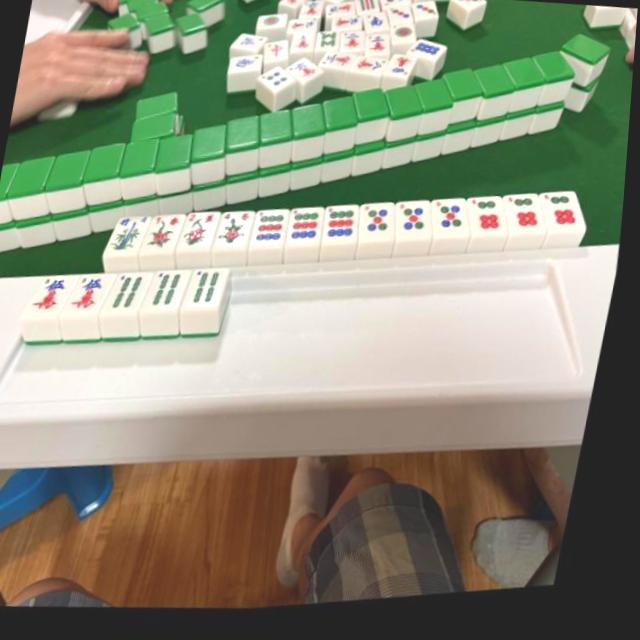bf4: (108, 213, 155, 261)
bs1: (146, 212, 188, 255)
bs2: (184, 212, 223, 255)
bs4: (218, 210, 259, 256)
sb4: (113, 271, 150, 316), (192, 268, 228, 312), (154, 270, 190, 314)
sc5: (32, 272, 76, 322), (72, 274, 113, 319)
sd5: (431, 202, 474, 248), (394, 204, 437, 250), (359, 206, 400, 248)
sd6: (540, 197, 585, 245), (467, 201, 511, 247), (504, 199, 547, 245)
sd9: (323, 207, 366, 253), (289, 209, 328, 251), (254, 212, 293, 253)
